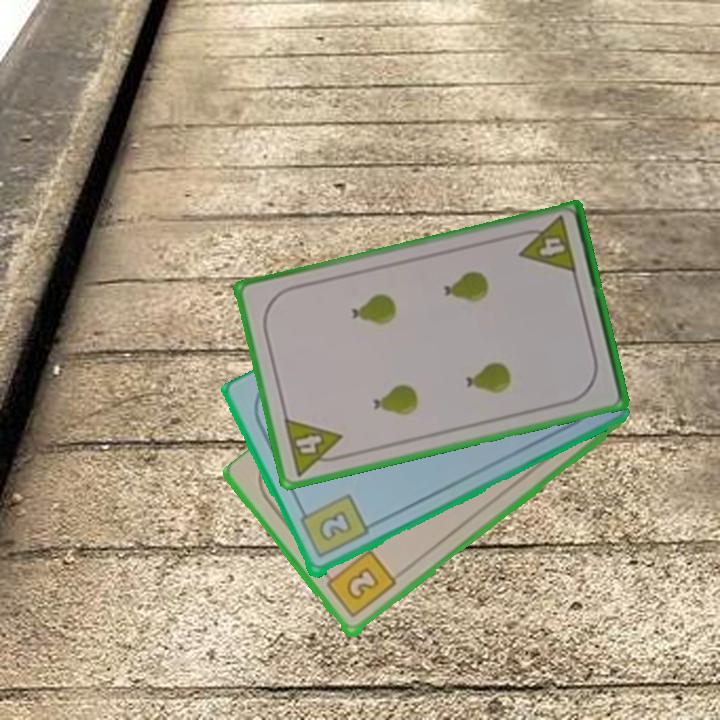2b: (319, 547, 399, 621), (295, 491, 371, 562)
4p: (280, 414, 349, 479), (512, 213, 579, 277)
